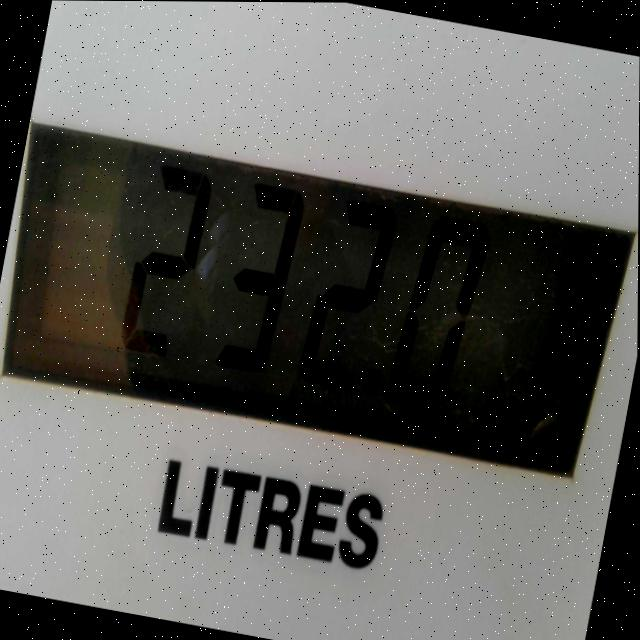.: (363, 366, 379, 395)
0: (387, 206, 497, 411)
1: (512, 219, 583, 430)
2: (296, 194, 395, 403), (116, 164, 213, 368)
3: (207, 177, 307, 396)
